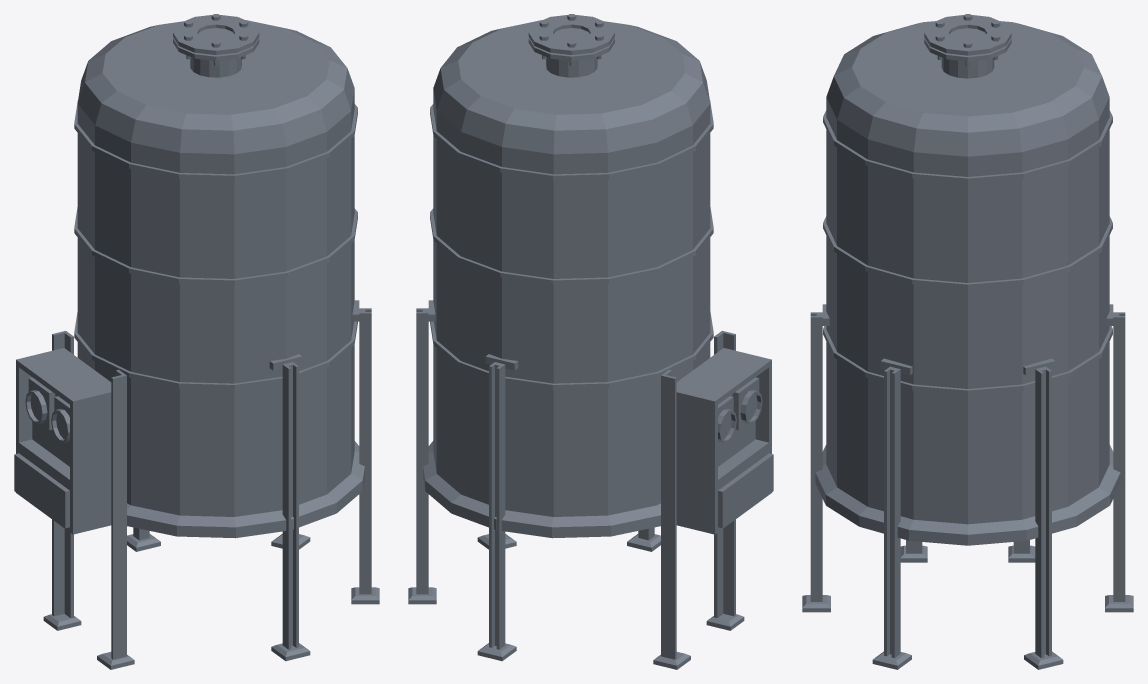
3 views of the same model, side by side, from view 1: azimuth 30°, elevation 25°; view 2: azimuth 150°, elevation 25°; view 3: azimuth 270°, elevation 25° (orthographic).
Visible parts, largest first — view 1: Cylinder.007; view 2: Cylinder.007; view 3: Cylinder.007.
Boxes of the visible parts, left/top/right/bottom form: Cylinder.007: left=14, top=14, right=379, bottom=669; Cylinder.007: left=408, top=14, right=773, bottom=669; Cylinder.007: left=802, top=14, right=1133, bottom=669.
Size of the model in its own units: 2.9 by 5.25 by 2.67.
